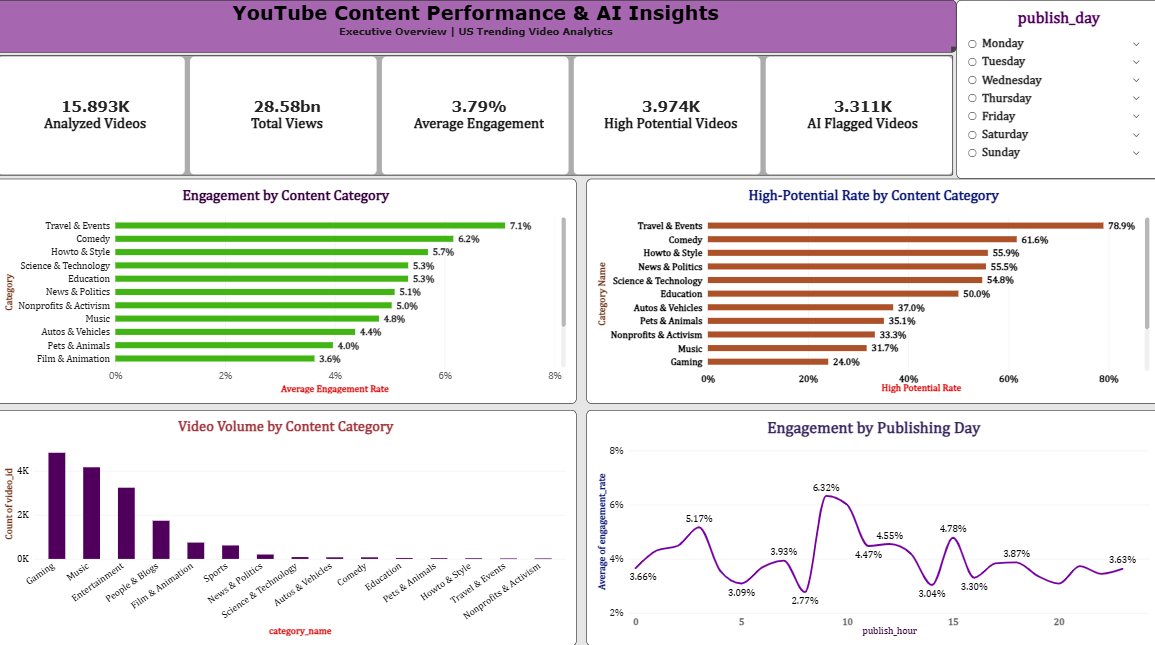

What the dashboard file says about the page in this screenshot:
{"tool":"powerbi","page":{"name":"Page 1","canvas":[1920,1080],"ordinal":0},"visuals":[{"type":"textbox","title":"YouTube Content Performance & AI Insights","box":[0,0,1584.9,86.4],"z":0},{"type":"cardVisual","fields":{"Data":["videos_fact.Analyzed Videos","videos_fact.Total Views","videos_fact.Average Engagement","final_ai_scored_videos.High Potential Videos","final_ai_scored_videos.AI Flagged Videos","videos_fact.Average Engagement"]},"box":[0,86.4,1584.9,207.9],"z":1000},{"type":"clusteredBarChart","title":"Engagement by Content Category","fields":{"Category":["videos_fact.Category Name"],"Y":["Avg(videos_fact.engagement_rate)"]},"box":[0,294.3,959.2,370.5],"z":2000},{"type":"clusteredBarChart","title":"High-Potential Rate by Content Category","fields":{"Category":["final_ai_scored_videos.Category Name"],"Y":["final_ai_scored_videos.High Potential Rate"]},"box":[976,294.5,944.4,370.2],"z":3000},{"type":"clusteredColumnChart","title":"Video Volume by Content Category","fields":{"Category":["videos_fact.category_name"],"Y":["Count(videos_fact.video_id)"]},"box":[0,675.1,959.2,389],"z":4000},{"type":"lineChart","title":"Engagement by Publishing Day","fields":{"Category":["videos_fact.publish_hour"],"Y":["Avg(videos_fact.engagement_rate)"]},"box":[976,675.2,944.4,389.1],"z":5000},{"type":"listSlicer","fields":{"Values":["videos_fact.publish_day","videos_fact.weekend_flag","videos_fact.category_name"]},"box":[1584.9,0,335.5,294.3],"z":6000}]}

Visuals, with their boxes in screenshot pixels (x1, y1, x2, y2), scaled from the page's 1920x1080 canvas onto the 1155x645 screenshot:
"YouTube Content Performance & AI Insights" textbox: left=0, top=0, right=953, bottom=52
cardVisual - videos_fact.Analyzed Videos x videos_fact.Total Views: left=0, top=52, right=953, bottom=176
"Engagement by Content Category" clusteredBarChart: left=0, top=176, right=577, bottom=397
"High-Potential Rate by Content Category" clusteredBarChart: left=587, top=176, right=1154, bottom=397
"Video Volume by Content Category" clusteredColumnChart: left=0, top=403, right=577, bottom=636
"Engagement by Publishing Day" lineChart: left=587, top=403, right=1154, bottom=636
listSlicer - videos_fact.publish_day x videos_fact.weekend_flag: left=953, top=0, right=1154, bottom=176
